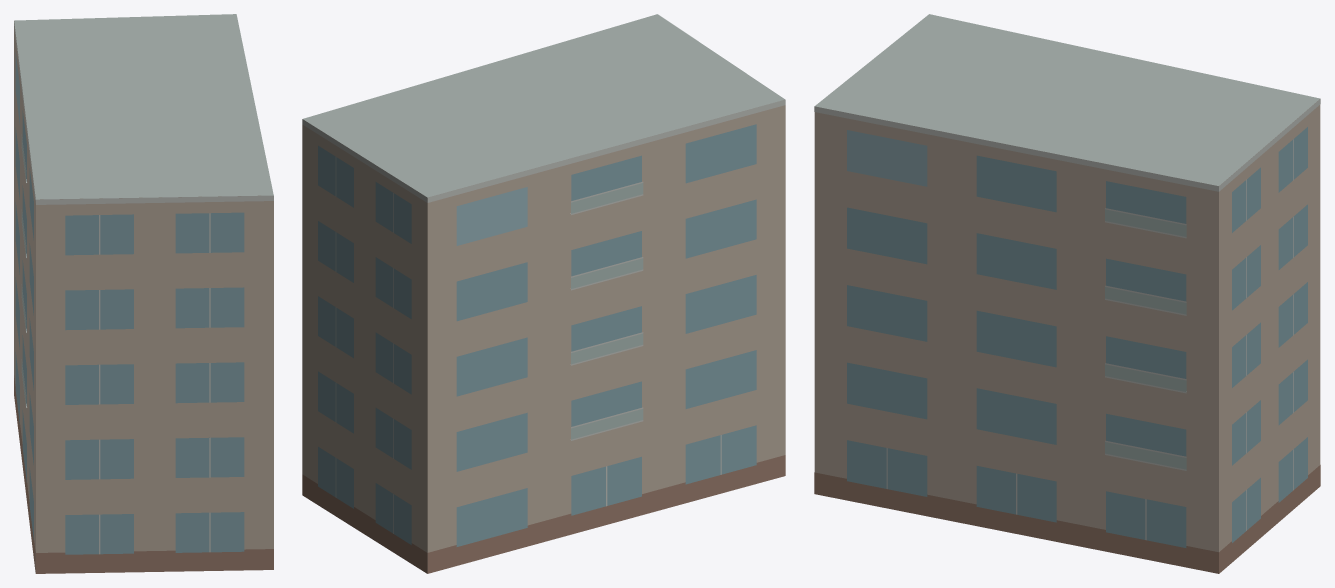
Rendered from survey-upis-33027157.glb.
The picture shows the model from 3 angles, left to right: view 1: azimuth 30°, elevation 25°; view 2: azimuth 150°, elevation 25°; view 3: azimuth 270°, elevation 25°; orthographic projection. The views are drawn at different scales.
Parts seen in each view (by area): view 1: survey-upis-33027157.tmp; view 2: survey-upis-33027157.tmp; view 3: survey-upis-33027157.tmp.
Part boxes in pixels (x1,y1,x2,y2): survey-upis-33027157.tmp: (14, 14, 273, 573); survey-upis-33027157.tmp: (302, 14, 785, 573); survey-upis-33027157.tmp: (814, 14, 1320, 573).
Bounding box in the file's own units: 15.91 × 16.7 × 19.76.
